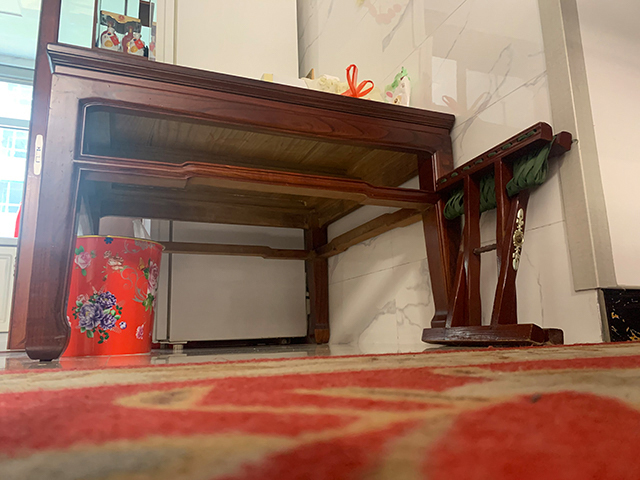carpet: (1, 340, 640, 480)
stool: (422, 120, 575, 346)
table: (24, 41, 459, 363)
trashcan: (62, 233, 165, 358)
